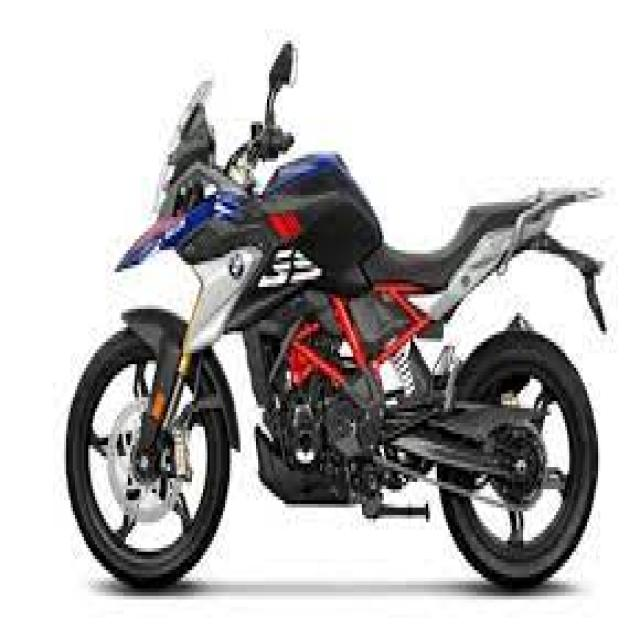MOTORCYCLE: (64, 108, 604, 598)
